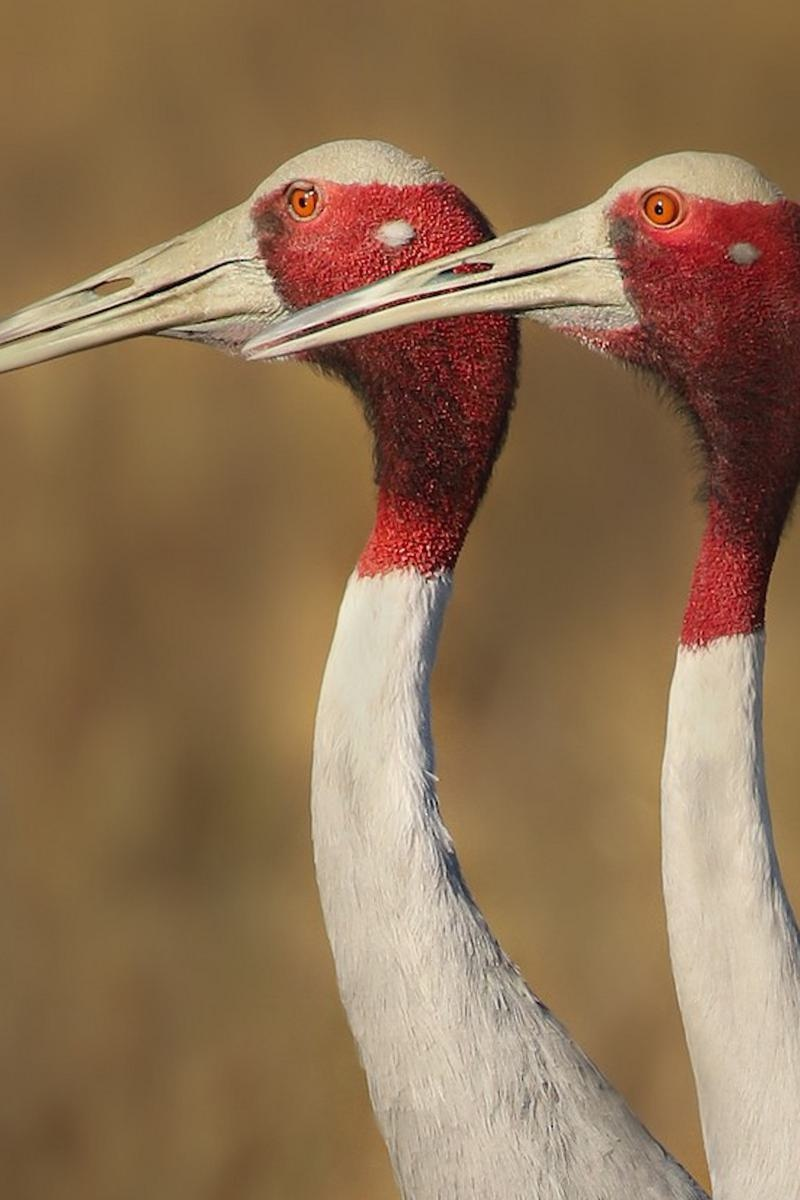crane: (7, 137, 600, 1200), (280, 150, 800, 1200)
